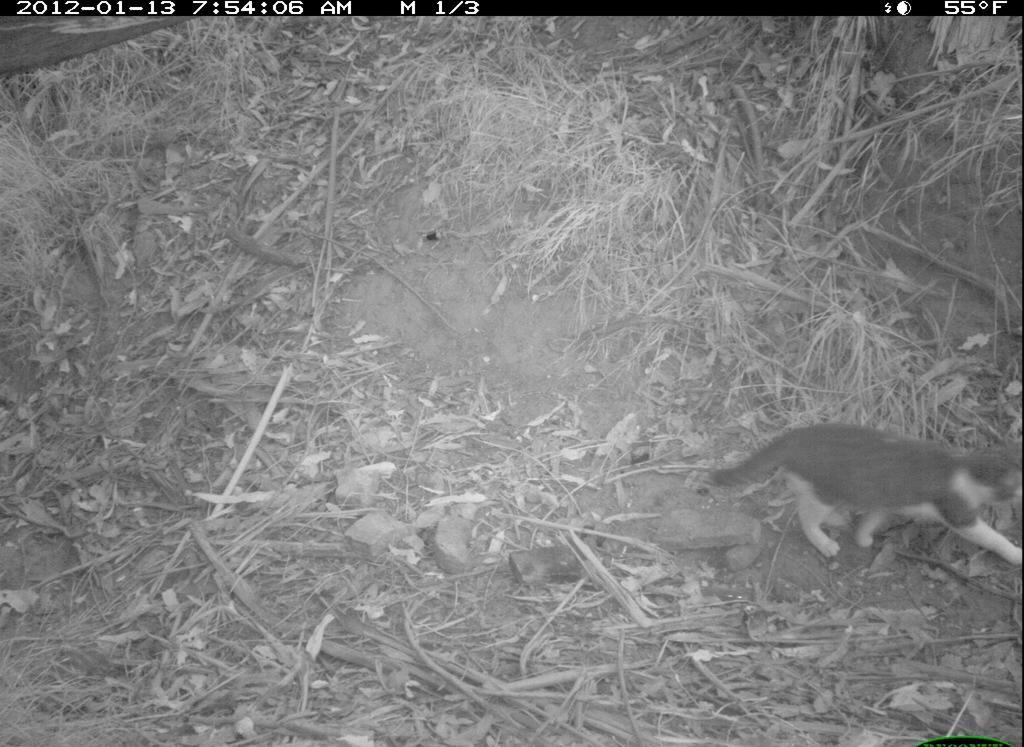cat: (696, 410, 1023, 565)
